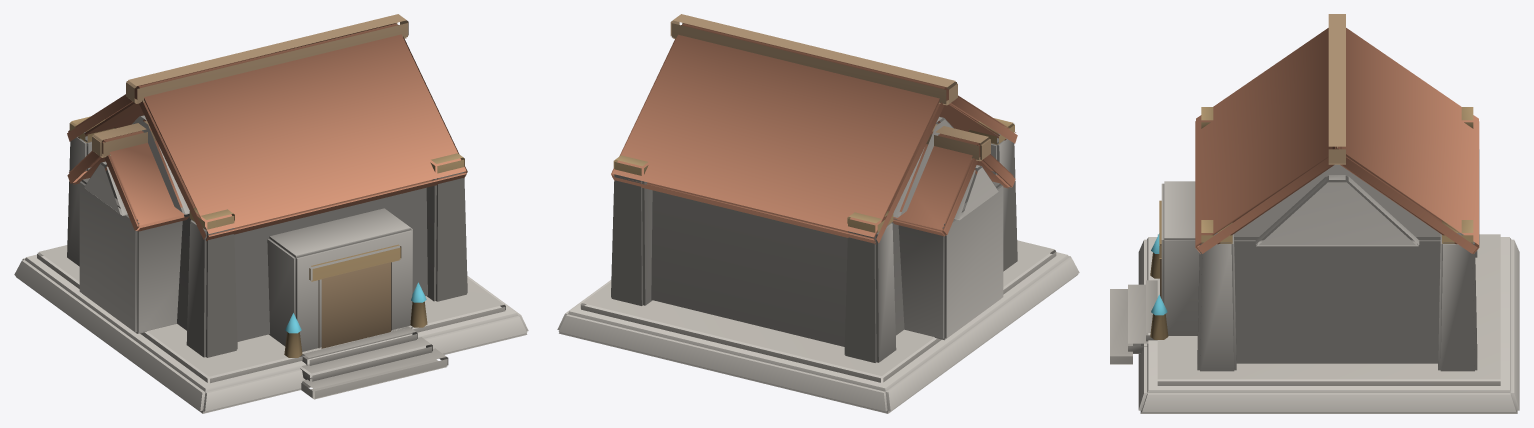
Rendered from core_archive_townhall_lv1_lod1.glb.
3 views of the same model, side by side, from view 1: azimuth 30°, elevation 25°; view 2: azimuth 150°, elevation 25°; view 3: azimuth 270°, elevation 25° (orthographic).
Parts seen in each view (by area): view 1: core_archive_townhall_lv1.001; view 2: core_archive_townhall_lv1.001; view 3: core_archive_townhall_lv1.001.
Boxes of the visible parts, x1=… form: core_archive_townhall_lv1.001: x1=14, y1=14, x2=528, y2=413; core_archive_townhall_lv1.001: x1=557, y1=14, x2=1079, y2=413; core_archive_townhall_lv1.001: x1=1110, y1=14, x2=1519, y2=413.
Size of the model in its own units: 4.71 by 3.4 by 4.99.
